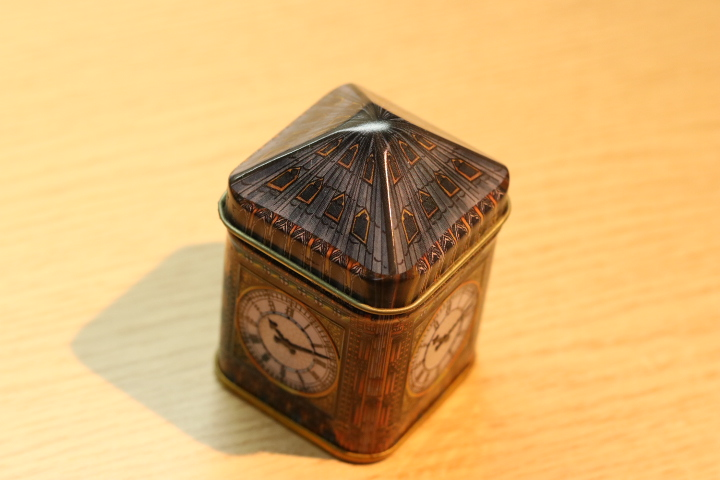Big Ben: (204, 69, 538, 471)
